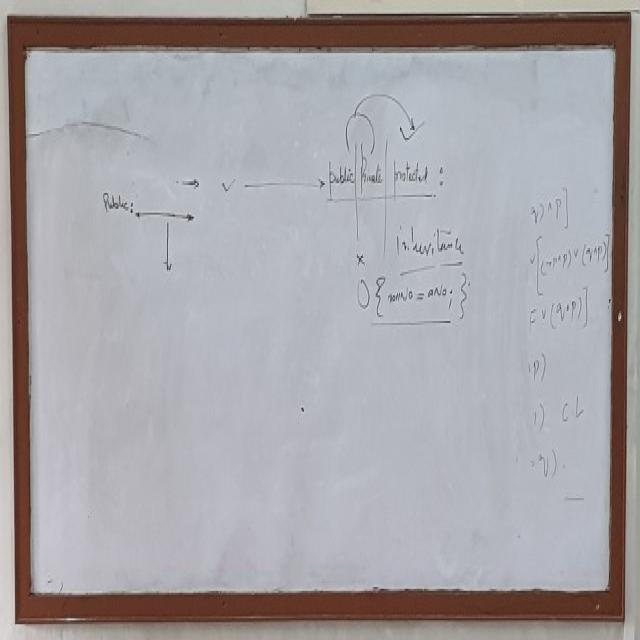White-board: (17, 28, 624, 611)
